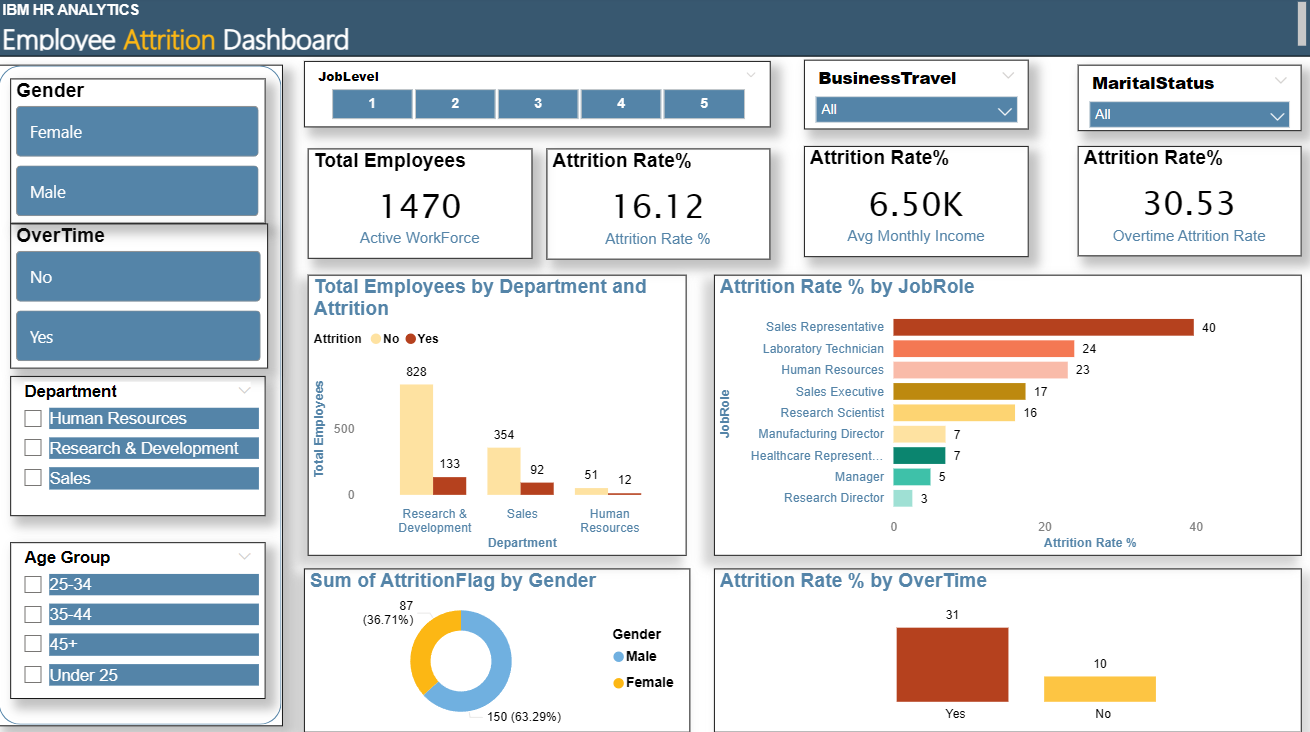

This screenshot's page, from the dashboard's own definition file:
{"tool":"powerbi","page":{"name":"Page 1","canvas":[1280,720],"ordinal":0},"visuals":[{"type":"shape","box":[3.6,66.4,275.1,638.2],"z":0},{"type":"textbox","box":[2.4,0,1270.5,58.7],"z":1000},{"type":"card","title":"Total Employees","fields":{"Values":["WA_Fn-UseC_-HR-Employee-Attrition.Total Employees"]},"box":[302.8,147.3,217.2,106.2],"z":4000},{"type":"card","title":"Attrition Rate%","fields":{"Values":["WA_Fn-UseC_-HR-Employee-Attrition.Attrition Rate %"]},"box":[533.2,147.2,216,107.4],"z":5000},{"type":"card","title":"Attrition Rate%","fields":{"Values":["WA_Fn-UseC_-HR-Employee-Attrition.Avg Monthly Income"]},"box":[781.8,144.8,217.2,107.4],"z":6000},{"type":"card","title":"Attrition Rate%","fields":{"Values":["WA_Fn-UseC_-HR-Employee-Attrition.Overtime Attrition Rate"]},"box":[1046,144.8,216,106.2],"z":7000},{"type":"clusteredColumnChart","fields":{"Category":["WA_Fn-UseC_-HR-Employee-Attrition.Department"],"Y":["WA_Fn-UseC_-HR-Employee-Attrition.Total Employees"],"Series":["WA_Fn-UseC_-HR-Employee-Attrition.Attrition"]},"box":[302.8,269,365.6,271.4],"z":8000},{"type":"clusteredBarChart","fields":{"Category":["WA_Fn-UseC_-HR-Employee-Attrition.JobRole"],"Y":["WA_Fn-UseC_-HR-Employee-Attrition.Attrition Rate %"]},"box":[694.9,269,567,271.4],"z":9000},{"type":"advancedSlicerVisual","fields":{"Values":["WA_Fn-UseC_-HR-Employee-Attrition.OverTime"]},"box":[15.7,219.6,248.5,139.9],"z":10000},{"type":"slicer","fields":{"Values":["WA_Fn-UseC_-HR-Employee-Attrition.Department"]},"box":[15.7,366.8,246.1,135.1],"z":11000},{"type":"advancedSlicerVisual","fields":{"Values":["WA_Fn-UseC_-HR-Employee-Attrition.Gender"]},"box":[15.7,79.6,246.1,139.9],"z":12000},{"type":"slicer","fields":{"Values":["WA_Fn-UseC_-HR-Employee-Attrition.BusinessTravel"]},"box":[781.8,61.5,217.2,67.6],"z":13000},{"type":"slicer","fields":{"Values":["WA_Fn-UseC_-HR-Employee-Attrition.JobLevel"]},"box":[299.2,62.7,450,63.9],"z":14000},{"type":"slicer","fields":{"Values":["WA_Fn-UseC_-HR-Employee-Attrition.MaritalStatus"]},"box":[1046,66.4,216,63.9],"z":15000},{"type":"donutChart","fields":{"Category":["WA_Fn-UseC_-HR-Employee-Attrition.Gender"],"Y":["Sum(WA_Fn-UseC_-HR-Employee-Attrition.AttritionFlag)"]},"box":[299.1,552.3,372.9,158.6],"z":16000},{"type":"clusteredColumnChart","fields":{"Category":["WA_Fn-UseC_-HR-Employee-Attrition.OverTime"],"Y":["WA_Fn-UseC_-HR-Employee-Attrition.Attrition Rate %"]},"box":[694.9,552.5,567,158],"z":17000},{"type":"slicer","fields":{"Values":["WA_Fn-UseC_-HR-Employee-Attrition.Age Group"]},"box":[15.7,527.2,246.1,150.8],"z":18000}]}

Visuals, with their boxes in screenshot pixels (x1, y1, x2, y2), scaled from the page's 1280x720 canvas onto the 1310x732 screenshot:
shape: region(4, 68, 285, 716)
textbox: region(2, 0, 1303, 60)
"Total Employees" card: region(310, 150, 532, 258)
"Attrition Rate%" card: region(546, 150, 767, 259)
"Attrition Rate%" card: region(800, 147, 1022, 256)
"Attrition Rate%" card: region(1071, 147, 1292, 255)
clusteredColumnChart - WA_Fn-UseC_-HR-Employee-Attrition.Department x WA_Fn-UseC_-HR-Employee-Attrition.Total Employees: region(310, 273, 684, 549)
clusteredBarChart - WA_Fn-UseC_-HR-Employee-Attrition.JobRole x WA_Fn-UseC_-HR-Employee-Attrition.Attrition Rate %: region(711, 273, 1291, 549)
advancedSlicerVisual - WA_Fn-UseC_-HR-Employee-Attrition.OverTime: region(16, 223, 270, 365)
slicer - WA_Fn-UseC_-HR-Employee-Attrition.Department: region(16, 373, 268, 510)
advancedSlicerVisual - WA_Fn-UseC_-HR-Employee-Attrition.Gender: region(16, 81, 268, 223)
slicer - WA_Fn-UseC_-HR-Employee-Attrition.BusinessTravel: region(800, 63, 1022, 131)
slicer - WA_Fn-UseC_-HR-Employee-Attrition.JobLevel: region(306, 64, 767, 129)
slicer - WA_Fn-UseC_-HR-Employee-Attrition.MaritalStatus: region(1071, 68, 1292, 132)
donutChart - WA_Fn-UseC_-HR-Employee-Attrition.Gender x Sum(WA_Fn-UseC_-HR-Employee-Attrition.AttritionFlag): region(306, 562, 688, 723)
clusteredColumnChart - WA_Fn-UseC_-HR-Employee-Attrition.OverTime x WA_Fn-UseC_-HR-Employee-Attrition.Attrition Rate %: region(711, 562, 1291, 722)
slicer - WA_Fn-UseC_-HR-Employee-Attrition.Age Group: region(16, 536, 268, 689)
